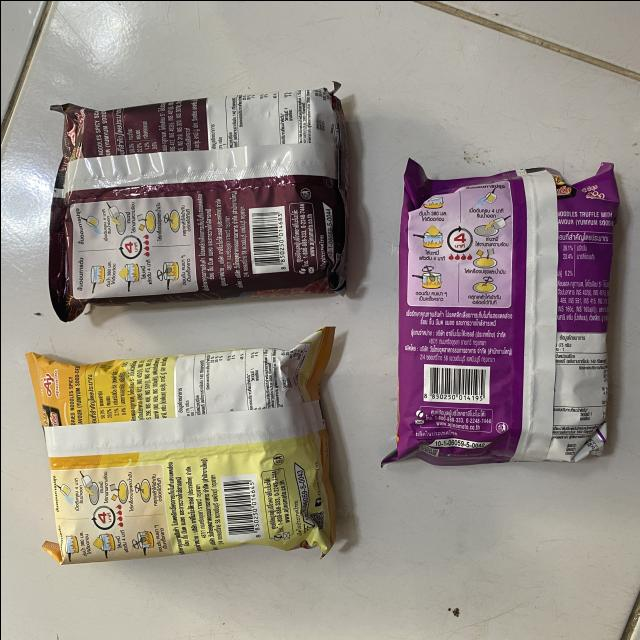plastik: (25, 326, 334, 564), (383, 159, 617, 464), (48, 88, 347, 320)
